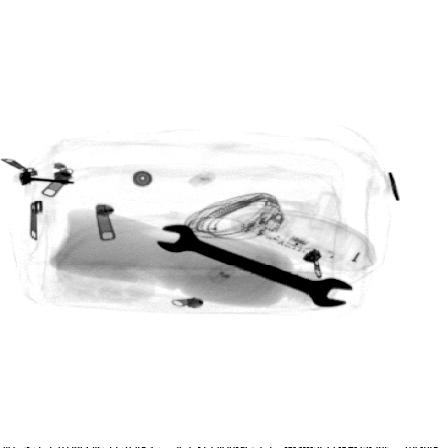Wrench: (152, 222, 353, 308)
